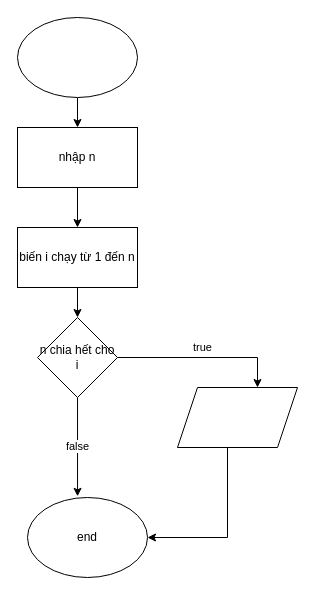
Some shapes in this 315 by 595 pixel diagram are drawn without their labels. The shapes that lost their labels are listed below. From the top down, each one's box as (x1, y1, x2, y2) in pixels, then its label:
(16, 16, 138, 98): start
(176, 386, 298, 448): uoc cua (n) la:
